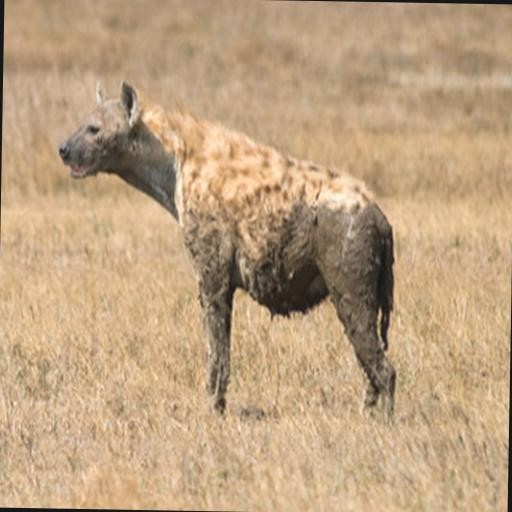hyenas: (25, 57, 512, 439)
